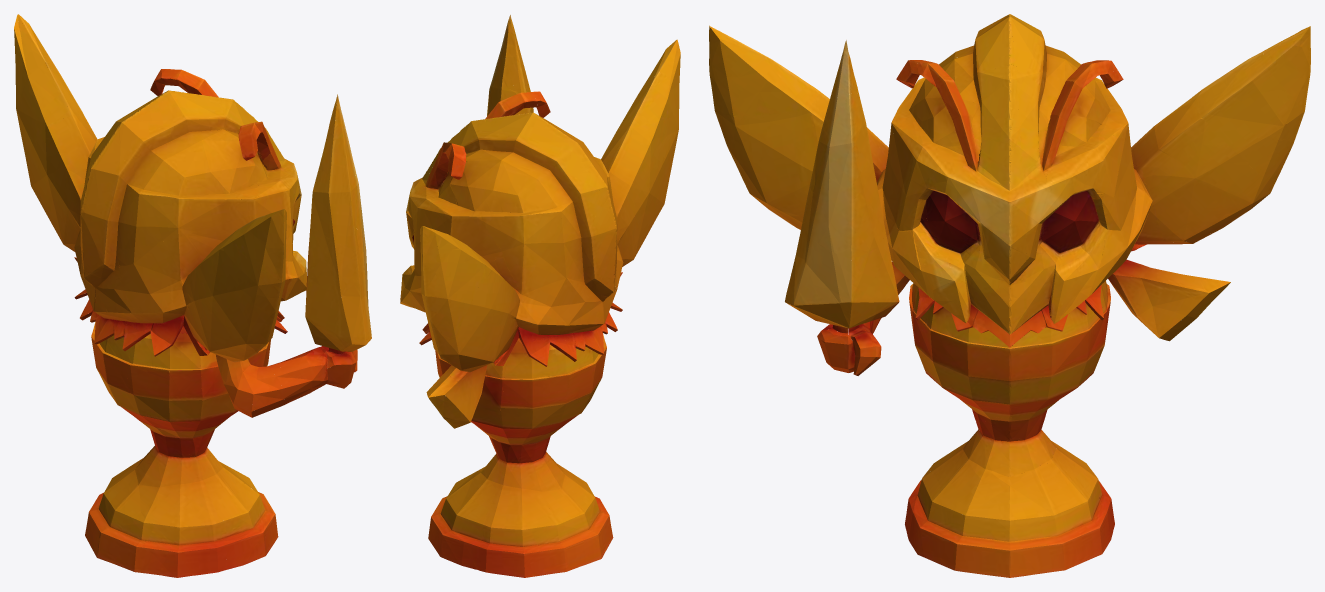
The picture shows the model from 3 angles, left to right: view 1: azimuth 30°, elevation 25°; view 2: azimuth 150°, elevation 25°; view 3: azimuth 270°, elevation 25°; orthographic projection. The views are drawn at different scales.
Visible parts, largest first — view 1: tripo_node_041d581c-e3ff-4630-9fec-afa839fcfede; view 2: tripo_node_041d581c-e3ff-4630-9fec-afa839fcfede; view 3: tripo_node_041d581c-e3ff-4630-9fec-afa839fcfede.
Boxes of the visible parts, <box> form: tripo_node_041d581c-e3ff-4630-9fec-afa839fcfede: <box>14,14,371,577</box>; tripo_node_041d581c-e3ff-4630-9fec-afa839fcfede: <box>400,15,680,577</box>; tripo_node_041d581c-e3ff-4630-9fec-afa839fcfede: <box>709,14,1310,577</box>.
Size of the model in its own units: 0.473 by 0.9868 by 1.
Materials: 1 (1 with a texture image).
